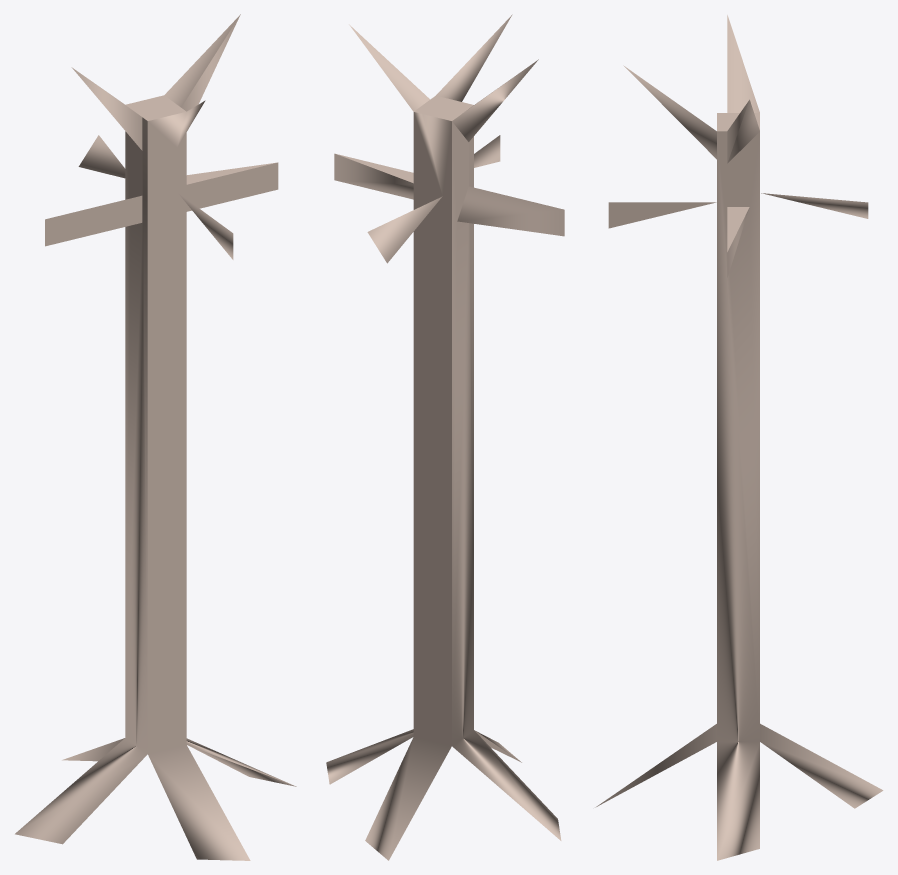
File: coatRackStanding.glb
3 renders of one model, left to right at view 1: azimuth 30°, elevation 25°; view 2: azimuth 150°, elevation 25°; view 3: azimuth 270°, elevation 25°, orthographic. The views are drawn at different scales.
Parts seen in each view (by area): view 1: coatRackStanding(Clone); view 2: coatRackStanding(Clone); view 3: coatRackStanding(Clone).
Part boxes in pixels (left/top/right/bottom): coatRackStanding(Clone): left=15, top=14, right=296, bottom=860; coatRackStanding(Clone): left=326, top=14, right=564, bottom=860; coatRackStanding(Clone): left=595, top=15, right=883, bottom=860.
Bounding box in the file's own units: 0.2727 × 0.77 × 0.2727.
